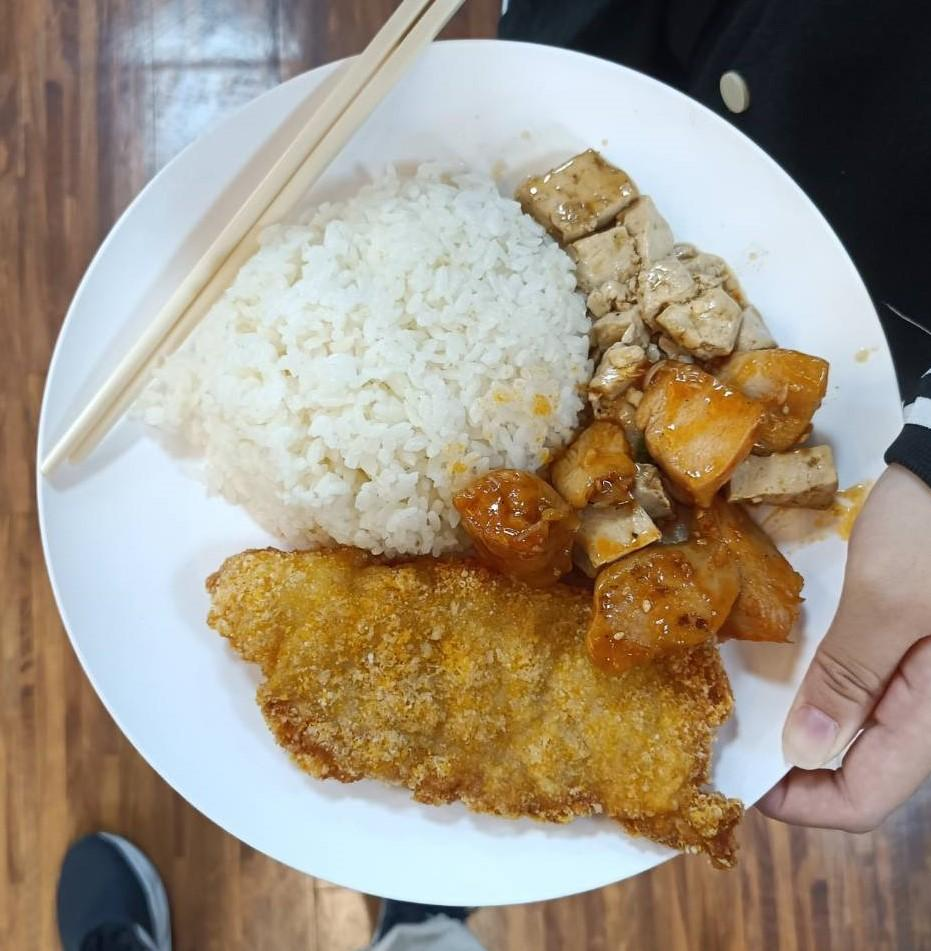big fried chicken leg: (8, 30, 912, 907)
big herbal chicken leg: (147, 166, 595, 555)
braised fish fillet: (477, 342, 854, 640), (524, 152, 784, 384)
braised pork: (198, 518, 766, 871)
